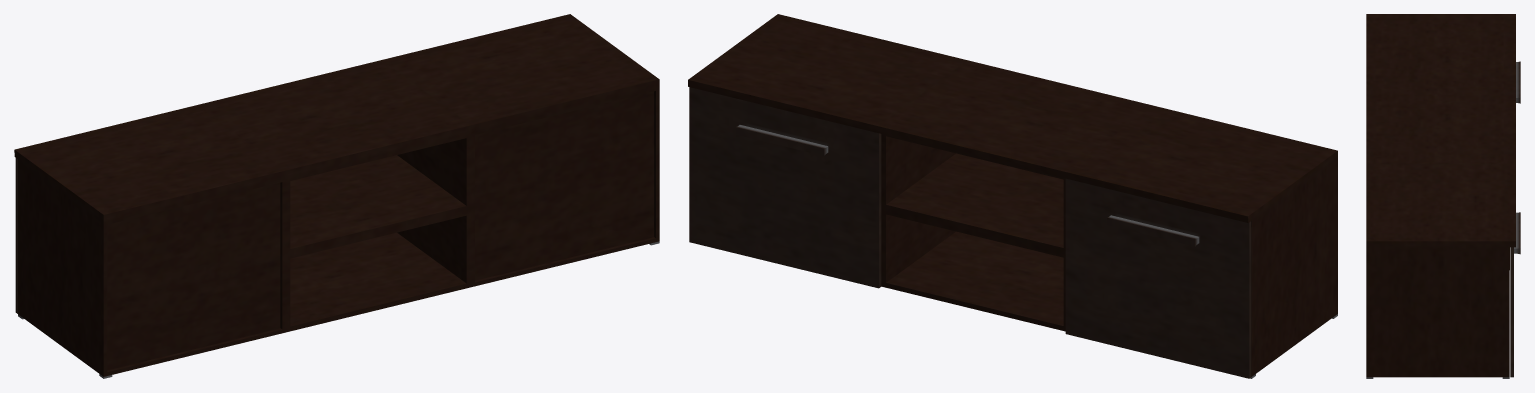
File: room_tvrack.glb
3 renders of one model, left to right at view 1: azimuth 30°, elevation 25°; view 2: azimuth 150°, elevation 25°; view 3: azimuth 270°, elevation 25°, orthographic. The views are drawn at different scales.
Visible parts, largest first — view 1: mesh; view 2: mesh; view 3: mesh.
Boxes of the visible parts, <box> form: mesh: <box>14,14,659,378</box>; mesh: <box>688,14,1337,378</box>; mesh: <box>1366,14,1520,378</box>.
Size of the model in its own units: 1.38 by 0.39 by 0.3971.
Materials: 1 (1 with a texture image).
